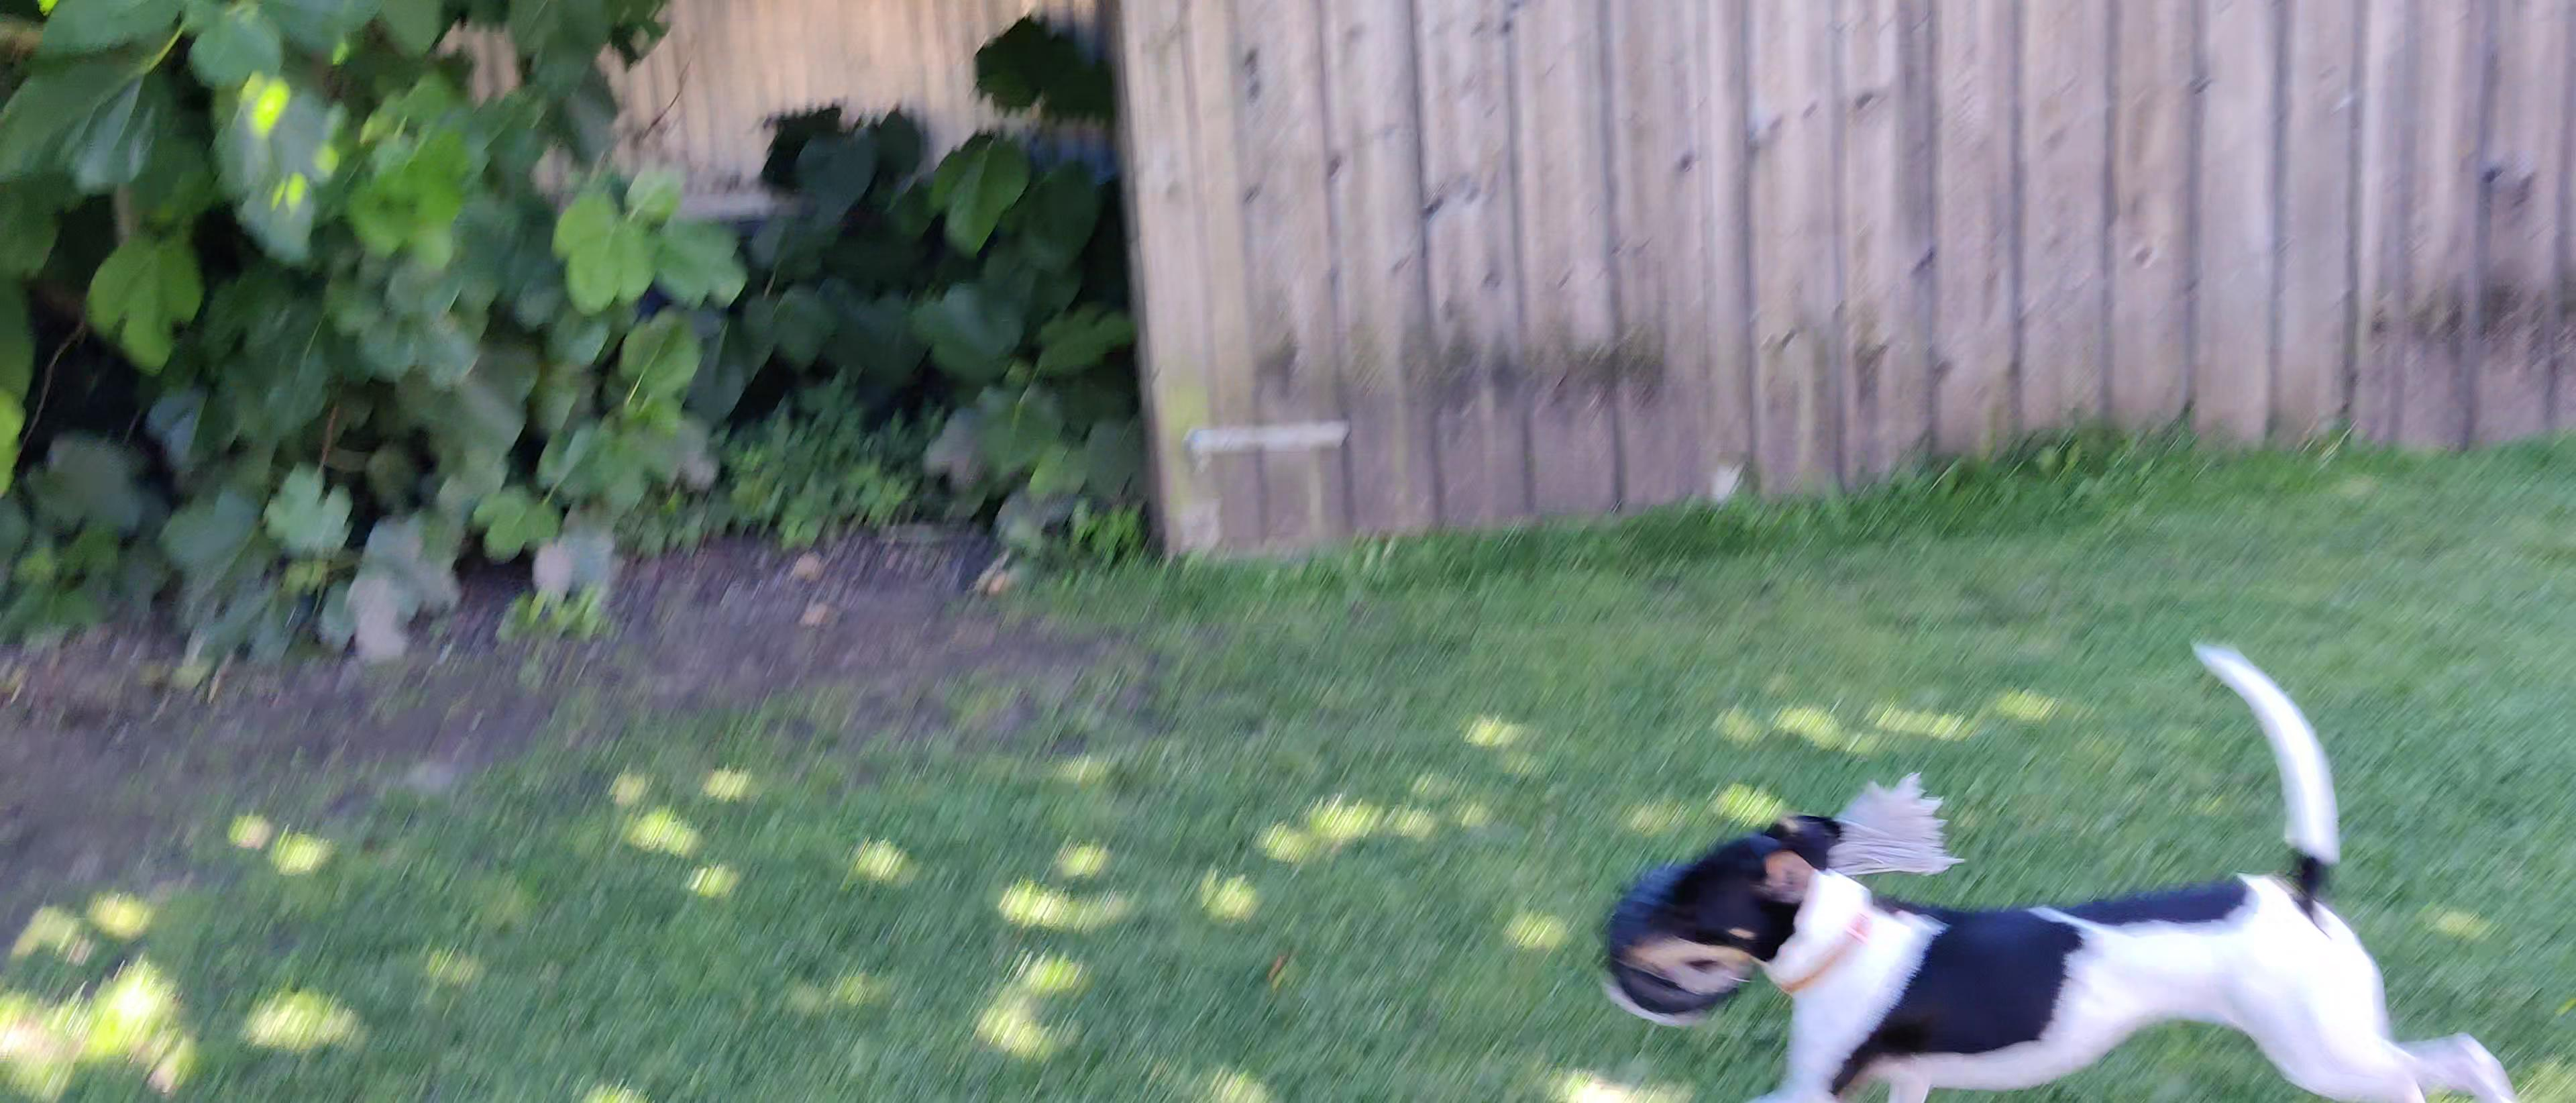Dog: (1575, 626, 2535, 1103)
